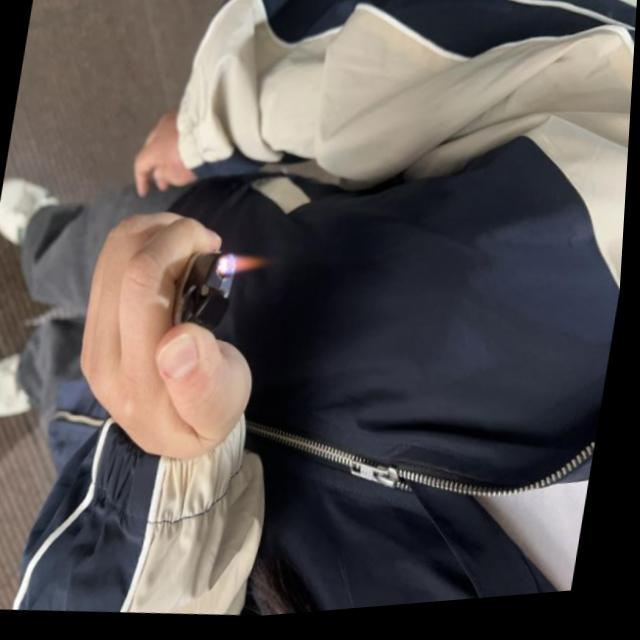Fire: (231, 258, 268, 281)
